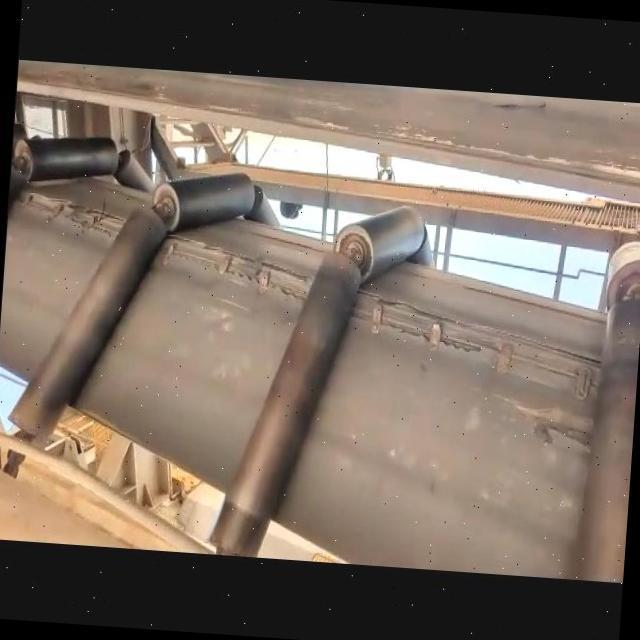Tear: (353, 280, 604, 397), (164, 230, 316, 308), (22, 182, 126, 238)
Wear: (494, 382, 598, 456)
